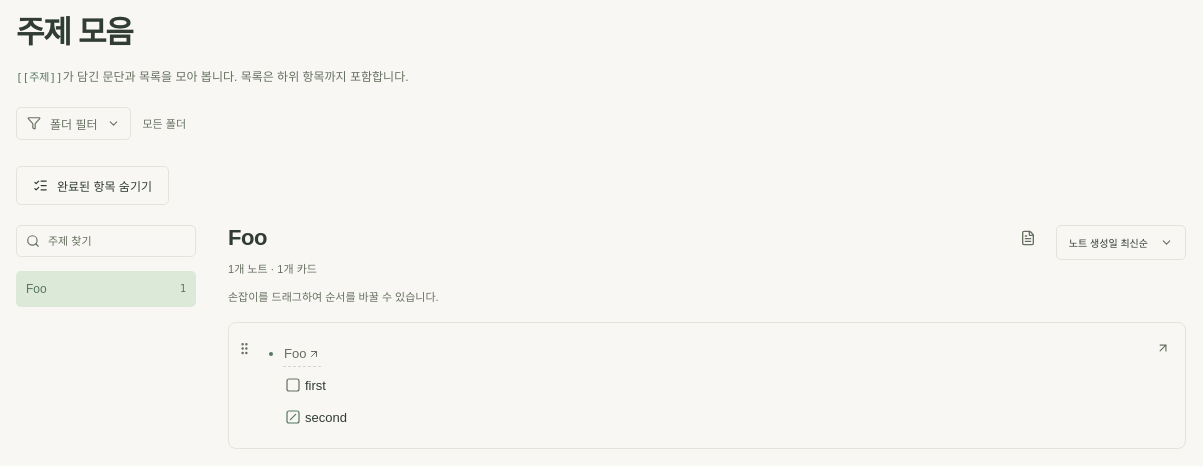
completing the last remaining checkbox immediately updates the completed-items filter
The image size is (1203, 466).
Click the button "완료된 항목 숨기기": (92, 185) top-left (16, 166), bottom-right (169, 205)
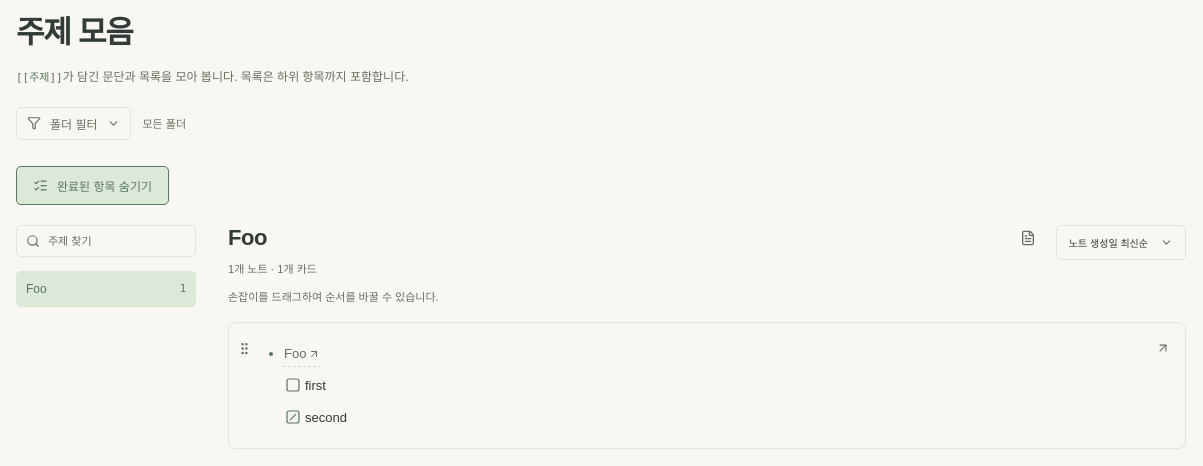
Click the checkbox with class "task-toggle" next to "first": (293, 386) top-left (281, 373), bottom-right (305, 398)
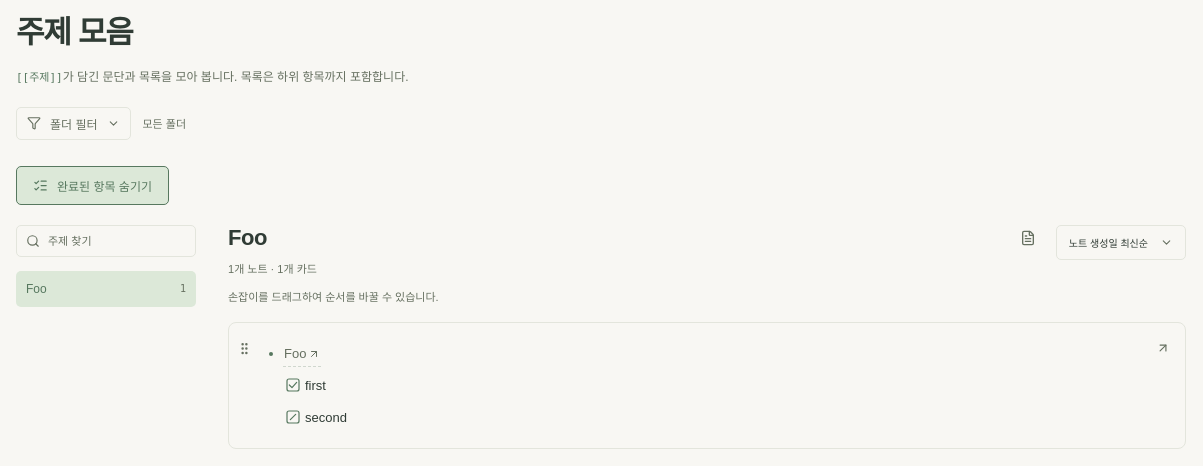
Expected: the element with class "topic-card" is shown, top-left (228, 322), bottom-right (1186, 449)
Click the 2nd checkbox with class "task-toggle": (293, 417) top-left (281, 405), bottom-right (305, 430)
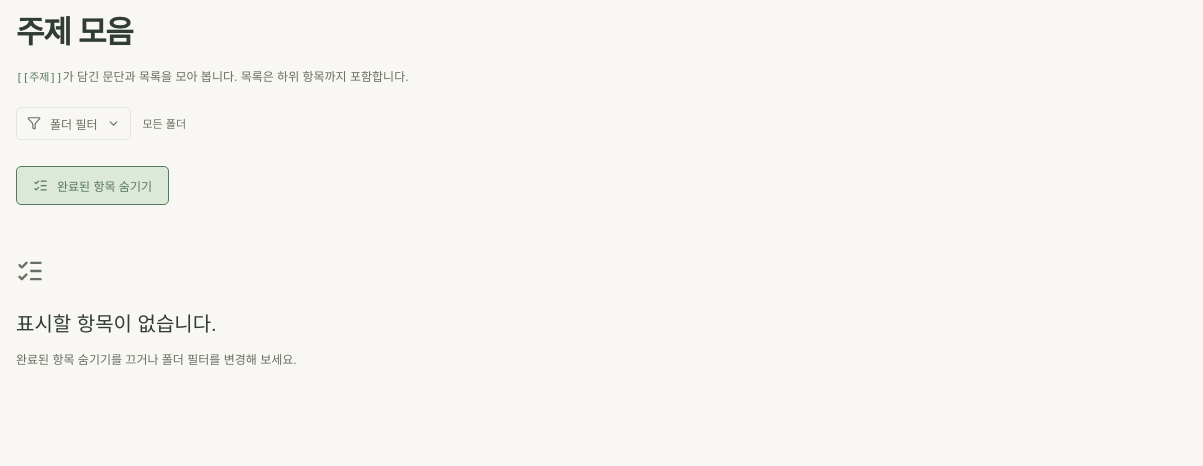
Now the element with class "topic-card" is gone
Now the text "표시할 항목이 없습니다." is shown, box top-left (16, 313), bottom-right (217, 335)
